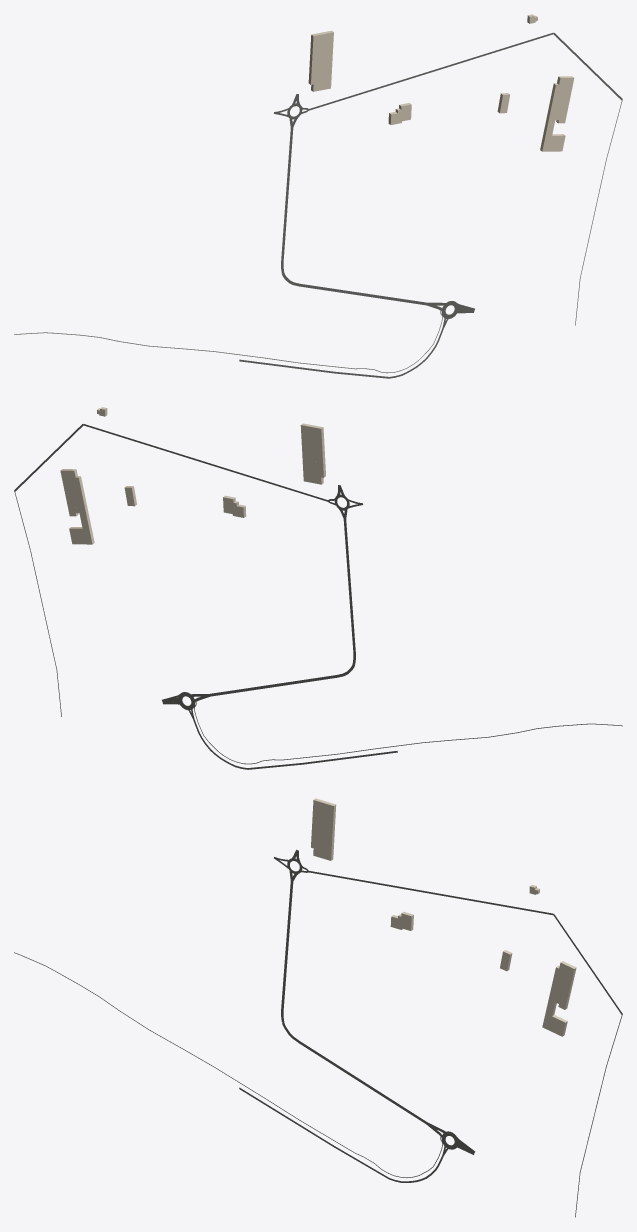
The model's file is historic-palestine-13_34_3546_3280.glb.
The picture shows the model from 3 angles, top to bottom: view 1: azimuth 30°, elevation 25°; view 2: azimuth 150°, elevation 25°; view 3: azimuth 330°, elevation 25°; orthographic projection.
Parts seen in each view (by area): view 1: Building_.001, Building_.003, Road .019, Road .018, Road .013, Road; view 2: Building_.001, Building_.003, Road .019, Road .018, Road .013, Road; view 3: Building_.001, Building_.003, Road .019, Road .018.
Boxes of the visible parts, left/top/right/bottom form: Building_.001: left=540, top=76, right=574, bottom=151; Building_.003: left=308, top=30, right=333, bottom=91; Road .019: left=14, top=309, right=442, bottom=373; Road .018: left=308, top=32, right=553, bottom=110; Road .013: left=239, top=328, right=443, bottom=378; Road: left=282, top=273, right=426, bottom=305; Building_.001: left=60, top=469, right=94, bottom=544; Building_.003: left=300, top=423, right=325, bottom=484; Road .019: left=194, top=701, right=622, bottom=764; Road .018: left=83, top=424, right=328, bottom=501; Road .013: left=193, top=719, right=397, bottom=769; Road: left=210, top=664, right=354, bottom=696; Building_.001: left=542, top=961, right=576, bottom=1036; Building_.003: left=311, top=798, right=336, bottom=860; Road .019: left=14, top=952, right=442, bottom=1177; Road .018: left=308, top=871, right=553, bottom=915.
Size of the model in its own units: 1182 by 671 by 8.7.
